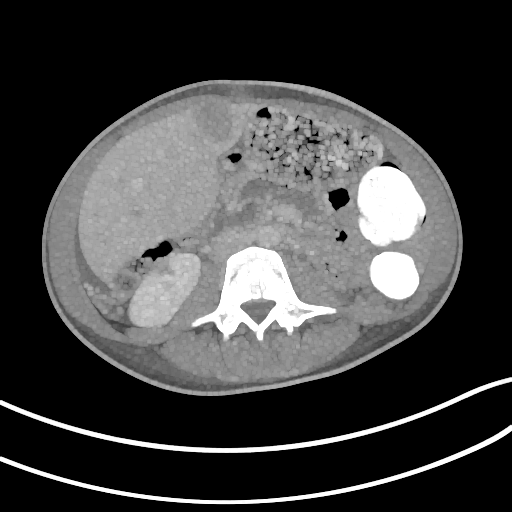Lesion: (149, 260, 178, 278)
